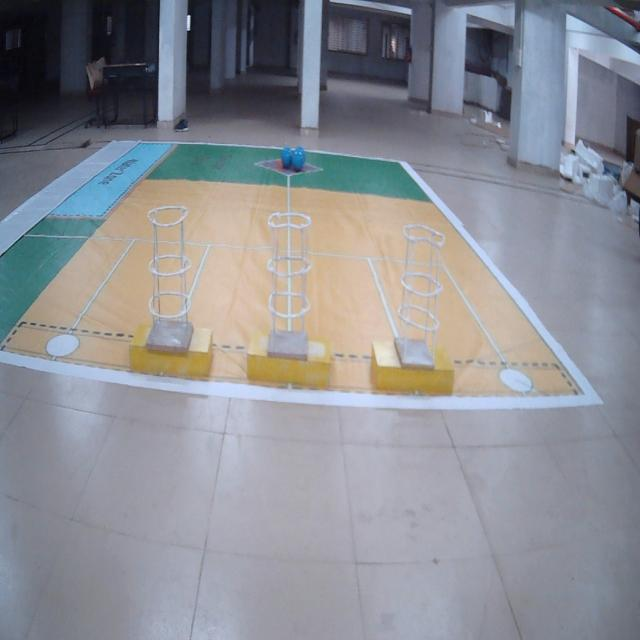silo: (270, 205, 311, 353), (151, 204, 191, 351), (404, 223, 445, 364)
